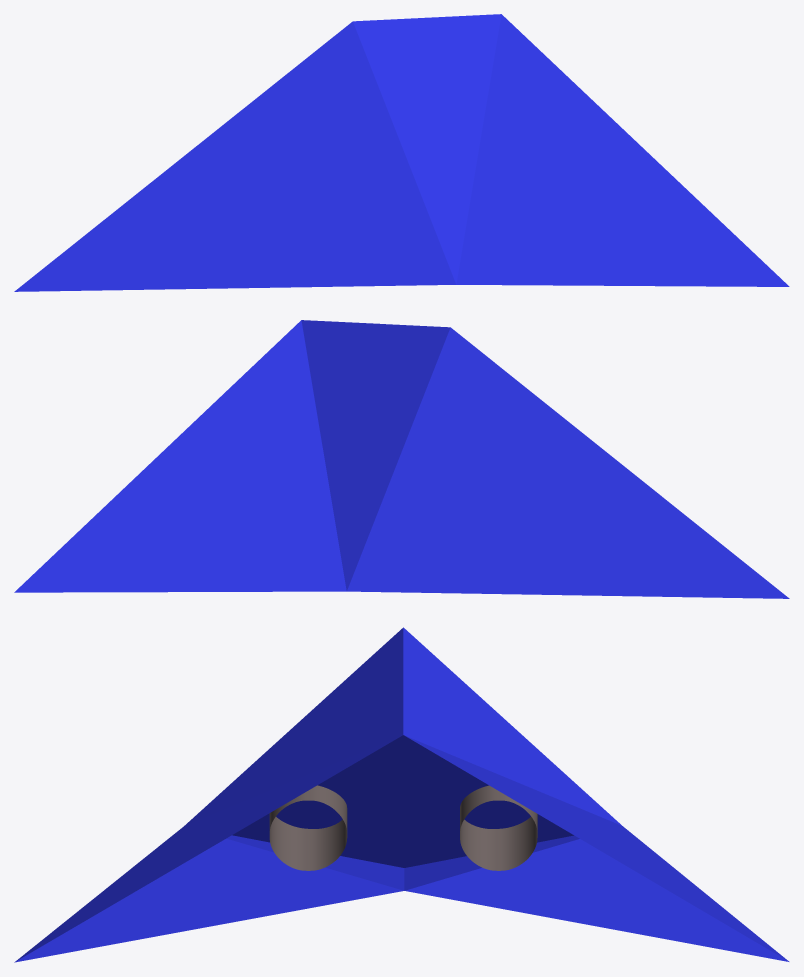
Rendered from FlyingRacer.fbx.
3 views of the same model, one above another, from view 1: azimuth 30°, elevation 25°; view 2: azimuth 150°, elevation 25°; view 3: azimuth 270°, elevation 25° (orthographic). The views are drawn at different scales.
Parts seen in each view (by area): view 1: MainKart; view 2: MainKart; view 3: MainKart, Surface, Surface.001.
Boxes of the visible parts, x1,y1,x2,y2 form: MainKart: (14,14,789,291); MainKart: (14,320,789,598); MainKart: (14,627,789,962); Surface: (269,785,347,870); Surface.001: (460,785,537,870).
Bounding box in the file's own units: 467 × 171 × 500.
